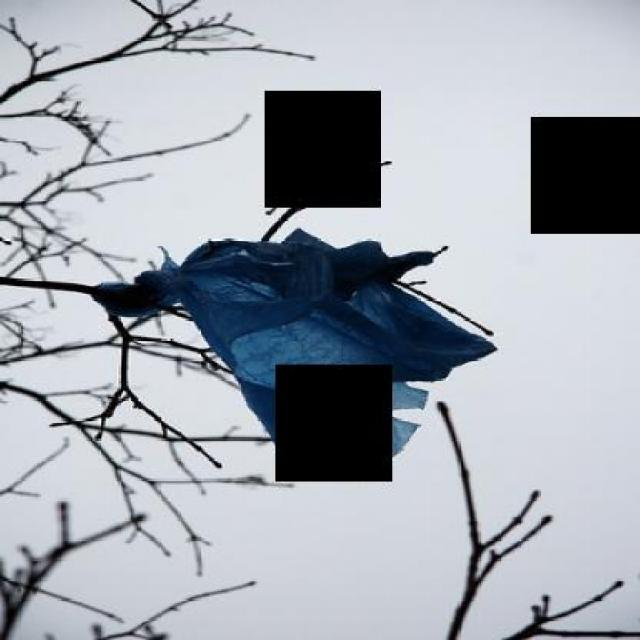plastic bag: (83, 228, 495, 477)
